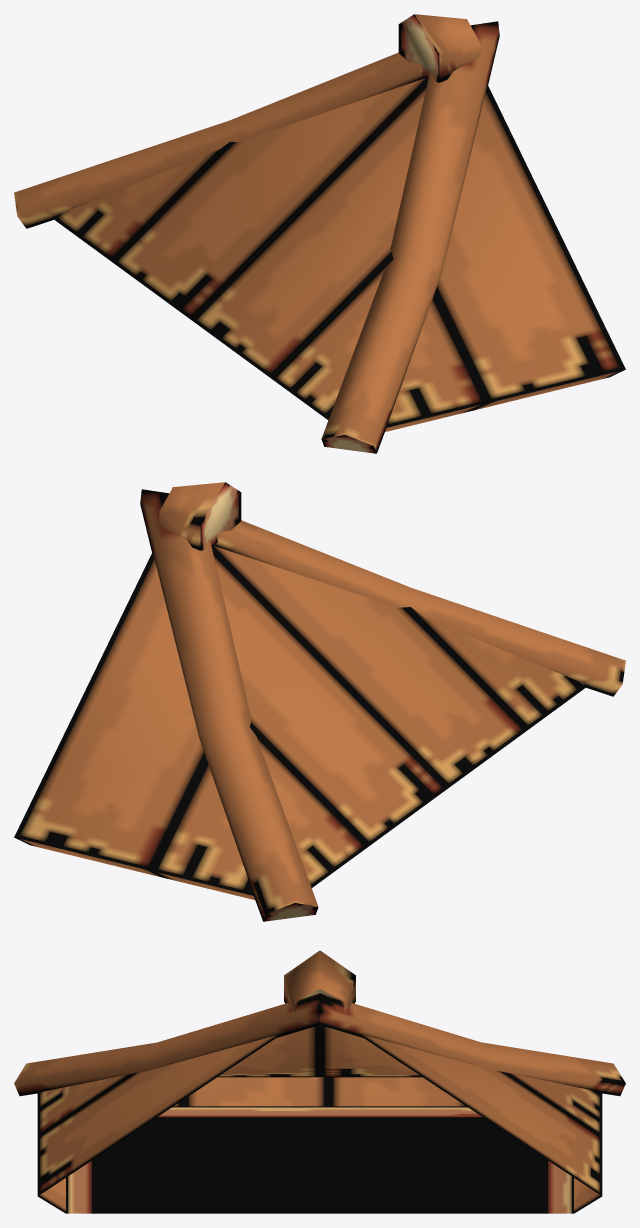
Rendered from arch_roof_corner_wood.FBX.
3 renders of one model, top to bottom at view 1: azimuth 30°, elevation 25°; view 2: azimuth 150°, elevation 25°; view 3: azimuth 270°, elevation 25°, orthographic. The views are drawn at different scales.
Parts seen in each view (by area): view 1: arch_roof_corner_wood; view 2: arch_roof_corner_wood; view 3: arch_roof_corner_wood.
Boxes of the visible parts, box(x1,y1,x2,y2) form: arch_roof_corner_wood: box(14, 14, 625, 453); arch_roof_corner_wood: box(14, 482, 625, 921); arch_roof_corner_wood: box(14, 950, 625, 1213).
Size of the model in its own units: 3 by 2.35 by 5.42.
1 material, 1 textured.
